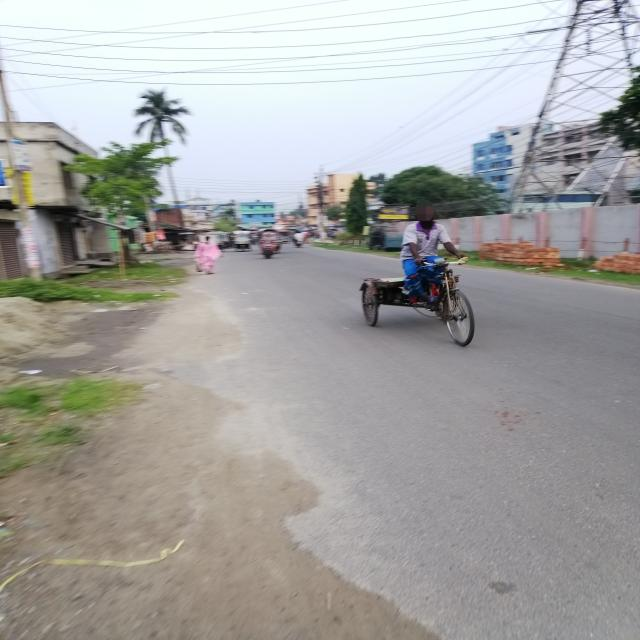Van: (346, 253, 502, 347)
